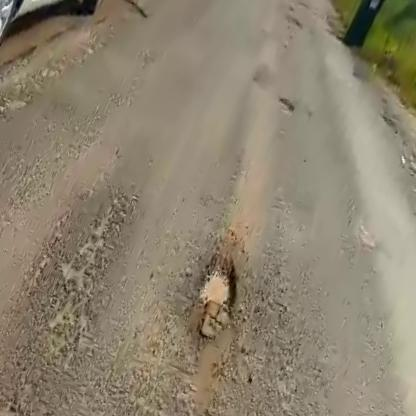pothole: (185, 249, 253, 333)
